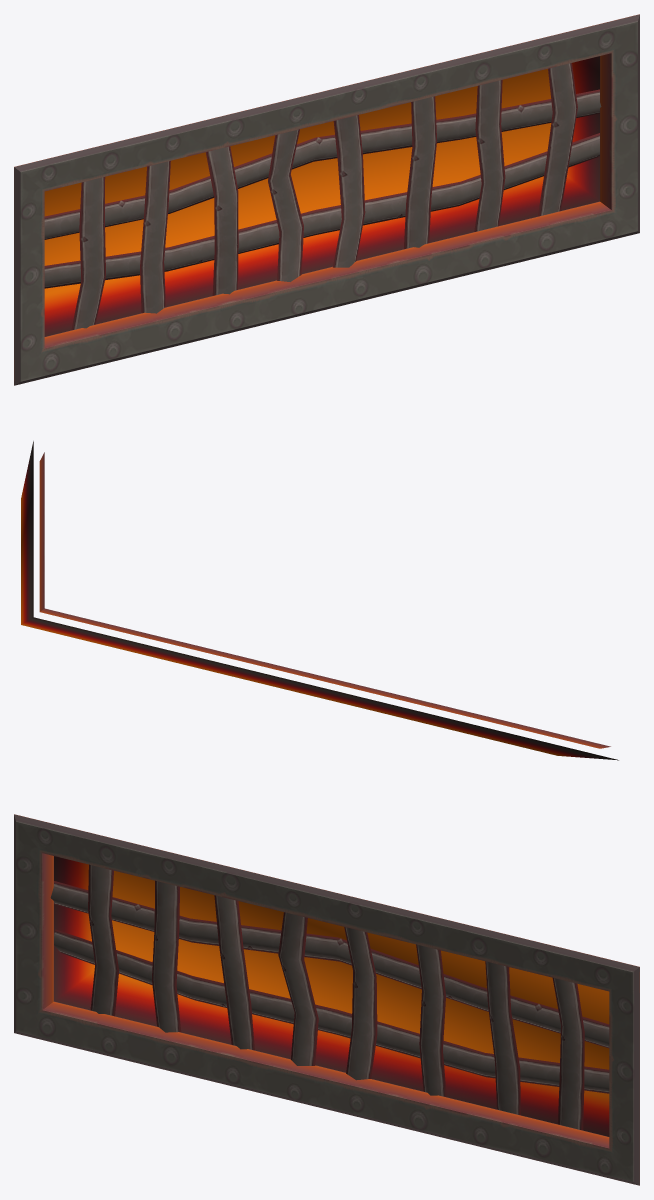
The model's file is tile_6x2.glb.
3 renders of one model, top to bottom at view 1: azimuth 30°, elevation 25°; view 2: azimuth 150°, elevation 25°; view 3: azimuth 330°, elevation 25°, orthographic.
Visible parts, largest first — view 1: flame_grates.tile_6x2-MeshNodes["flame_pit_6x2"], flame_grates.tile_6x2-MeshNodes["flame_pit_6x2_bars"], flame_grates.tile_6x2-MeshNodes["flame_pit_6x2_pit"]; view 2: flame_grates.tile_6x2-MeshNodes["flame_pit_6x2_pit"], flame_grates.tile_6x2-MeshNodes["flame_pit_6x2"]; view 3: flame_grates.tile_6x2-MeshNodes["flame_pit_6x2"], flame_grates.tile_6x2-MeshNodes["flame_pit_6x2_bars"], flame_grates.tile_6x2-MeshNodes["flame_pit_6x2_pit"].
Part boxes in pixels (bbox=[...]): flame_grates.tile_6x2-MeshNodes["flame_pit_6x2"]: bbox=[14, 14, 639, 385]; flame_grates.tile_6x2-MeshNodes["flame_pit_6x2_bars"]: bbox=[44, 63, 601, 330]; flame_grates.tile_6x2-MeshNodes["flame_pit_6x2_pit"]: bbox=[44, 56, 599, 336]; flame_grates.tile_6x2-MeshNodes["flame_pit_6x2_pit"]: bbox=[21, 441, 618, 760]; flame_grates.tile_6x2-MeshNodes["flame_pit_6x2"]: bbox=[39, 452, 610, 748]; flame_grates.tile_6x2-MeshNodes["flame_pit_6x2"]: bbox=[14, 814, 639, 1185]; flame_grates.tile_6x2-MeshNodes["flame_pit_6x2_bars"]: bbox=[50, 864, 609, 1130]; flame_grates.tile_6x2-MeshNodes["flame_pit_6x2_pit"]: bbox=[54, 856, 609, 1136].
Bounding box in the file's own units: 6.01 × 2.01 × 0.6696.
3 materials, 3 textured.
